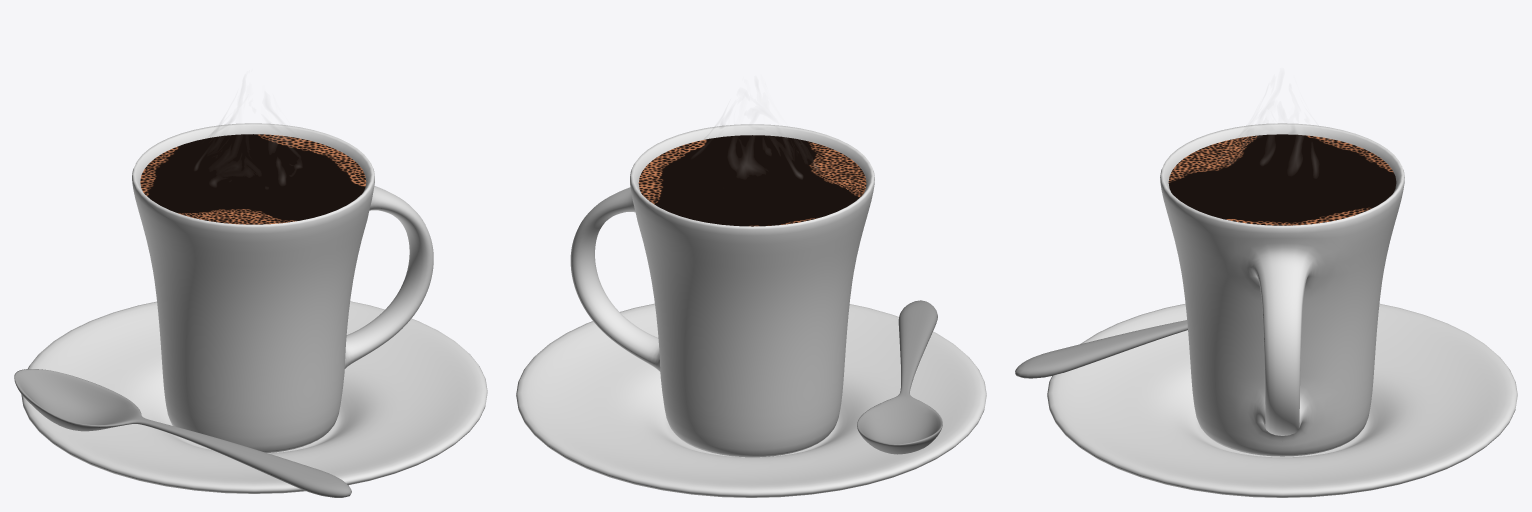
File: drink2.glb
3 views of the same model, side by side, from view 1: azimuth 30°, elevation 25°; view 2: azimuth 150°, elevation 25°; view 3: azimuth 270°, elevation 25° (orthographic).
Parts seen in each view (by area): view 1: Cup, Plate, Coffee, Teaspoon; view 2: Cup, Plate, Coffee, Teaspoon; view 3: Cup, Plate, Coffee, Teaspoon.
Boxes of the visible parts, x1,y1,x2,y2 form: Cup: [132, 123, 433, 452]; Plate: [21, 301, 487, 493]; Coffee: [140, 134, 366, 224]; Teaspoon: [14, 369, 351, 497]; Cup: [570, 124, 874, 457]; Plate: [516, 303, 986, 497]; Coffee: [638, 135, 866, 226]; Teaspoon: [857, 300, 942, 454]; Cup: [1160, 123, 1404, 456]; Plate: [1047, 303, 1517, 497]; Coffee: [1168, 134, 1396, 225]; Teaspoon: [1015, 320, 1187, 378].
Size of the model in its own units: 207 by 208 by 221.
Materials: 5 (5 with a texture image).
